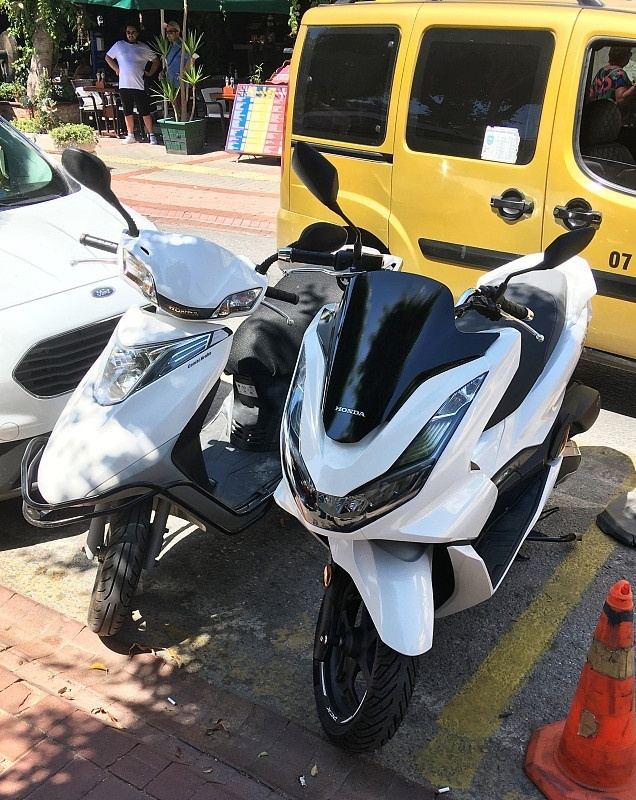non-vehicle: (293, 239, 594, 733), (40, 236, 278, 640)
